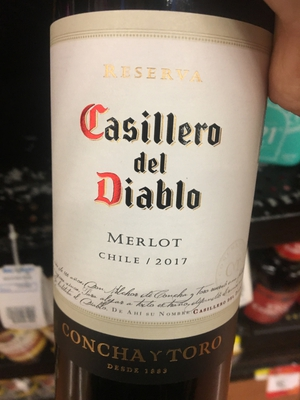casillero del diablo merlot: (46, 9, 279, 400)
